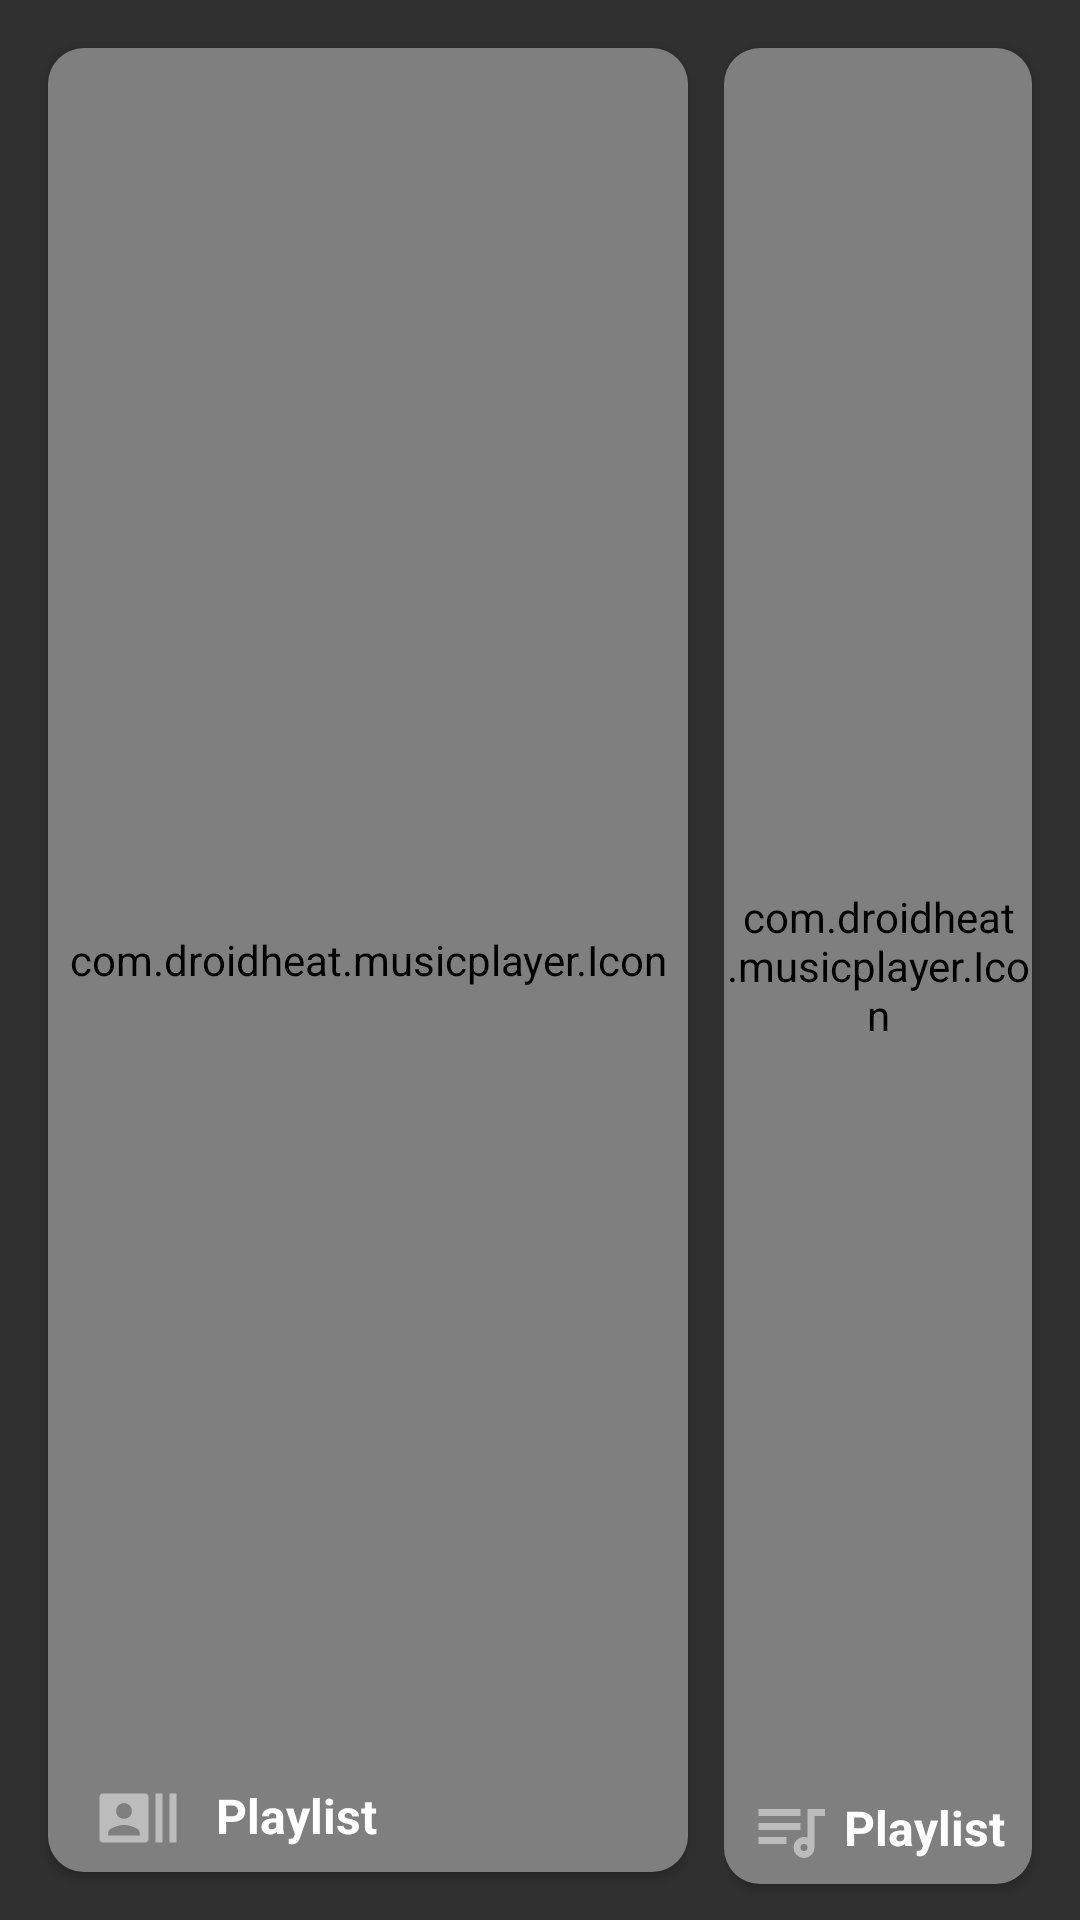

Icons on this 1080x1920 Android screen, each with the point to tap as point (x, y):
artists: point (138, 1818)
